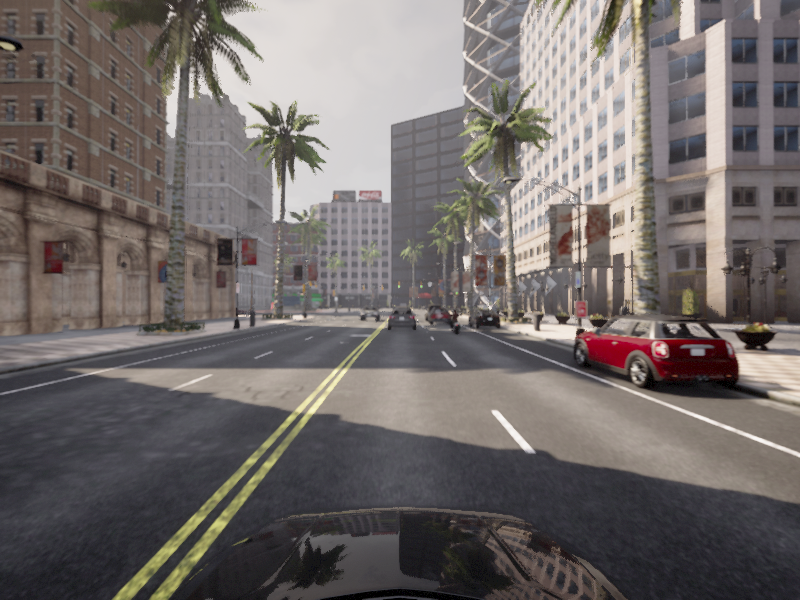vehicle: (386, 307, 417, 330), (426, 306, 452, 325), (447, 308, 463, 335), (359, 304, 380, 322), (390, 306, 413, 322), (424, 304, 444, 322)
